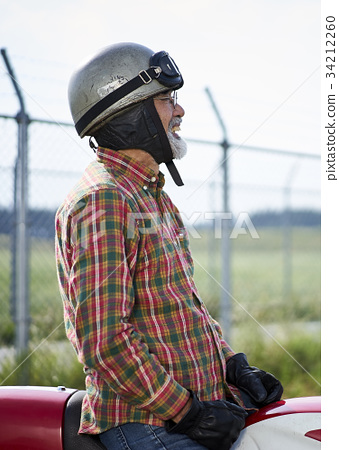helmet: (59, 45, 192, 113)
